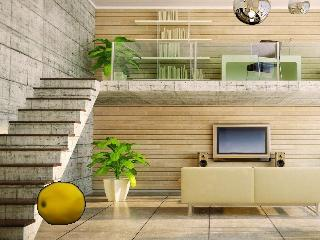lemon: (39, 182, 86, 224)
